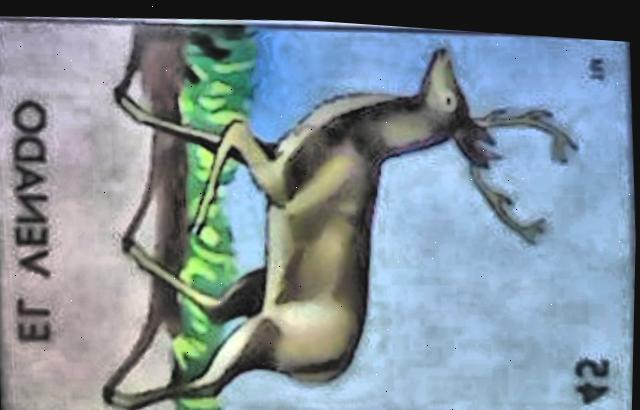El Venado: (0, 19, 635, 410)
